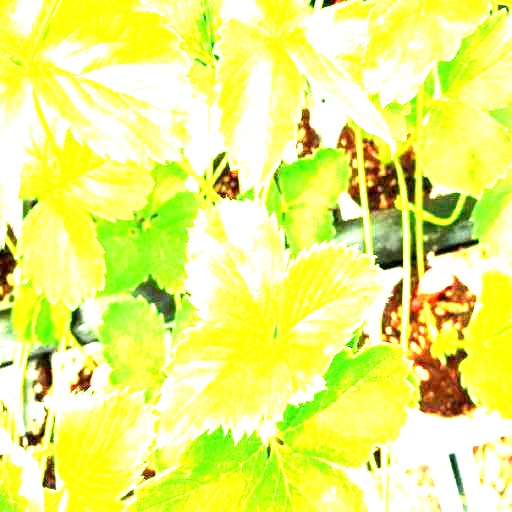Powdery Mildew Leaf: (280, 0, 413, 161), (182, 194, 290, 339), (0, 404, 46, 511)
